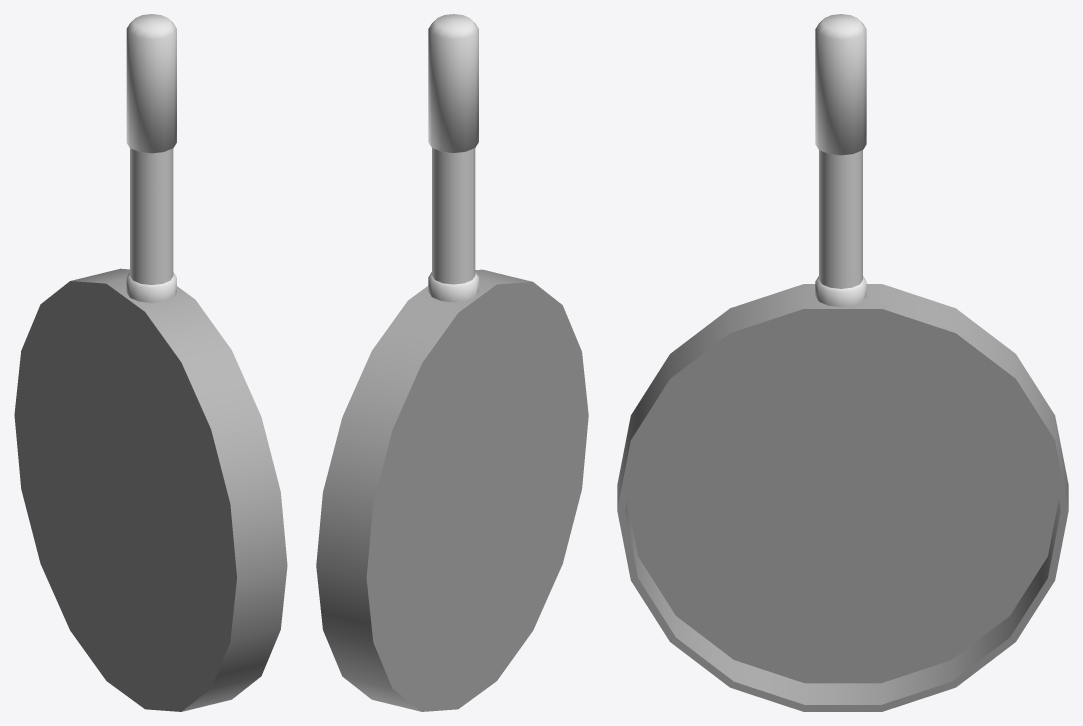
File: KitchenLargePan.fbx
3 views of the same model, side by side, from view 1: azimuth 30°, elevation 25°; view 2: azimuth 150°, elevation 25°; view 3: azimuth 270°, elevation 25° (orthographic).
Parts seen in each view (by area): view 1: pan2; view 2: pan2; view 3: pan2.
Boxes of the visible parts, bbox=[...] form: pan2: bbox=[14, 14, 287, 711]; pan2: bbox=[316, 14, 588, 711]; pan2: bbox=[617, 14, 1068, 711].
Bounding box in the file's own units: 4.69 × 59.54 × 35.9.
